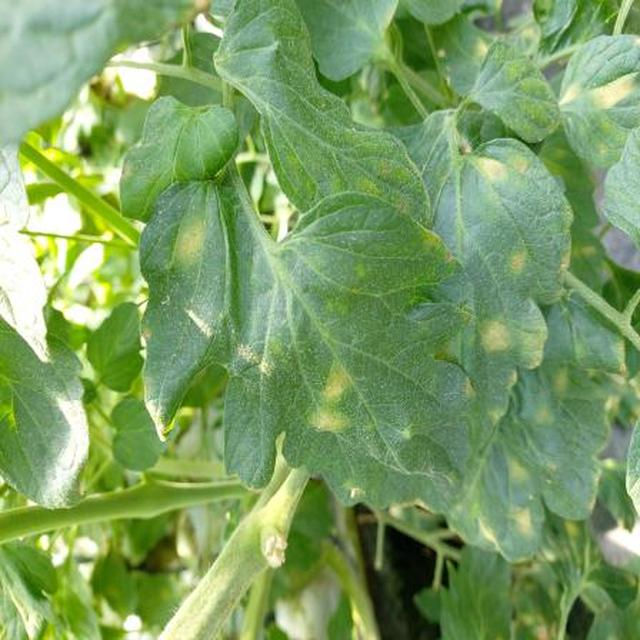Leaf Mold: (198, 247, 640, 640)
